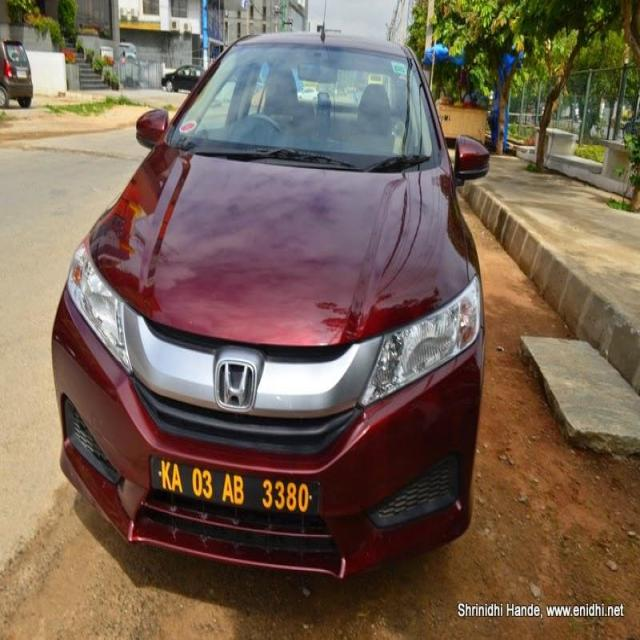number_plate: (148, 453, 315, 518)
